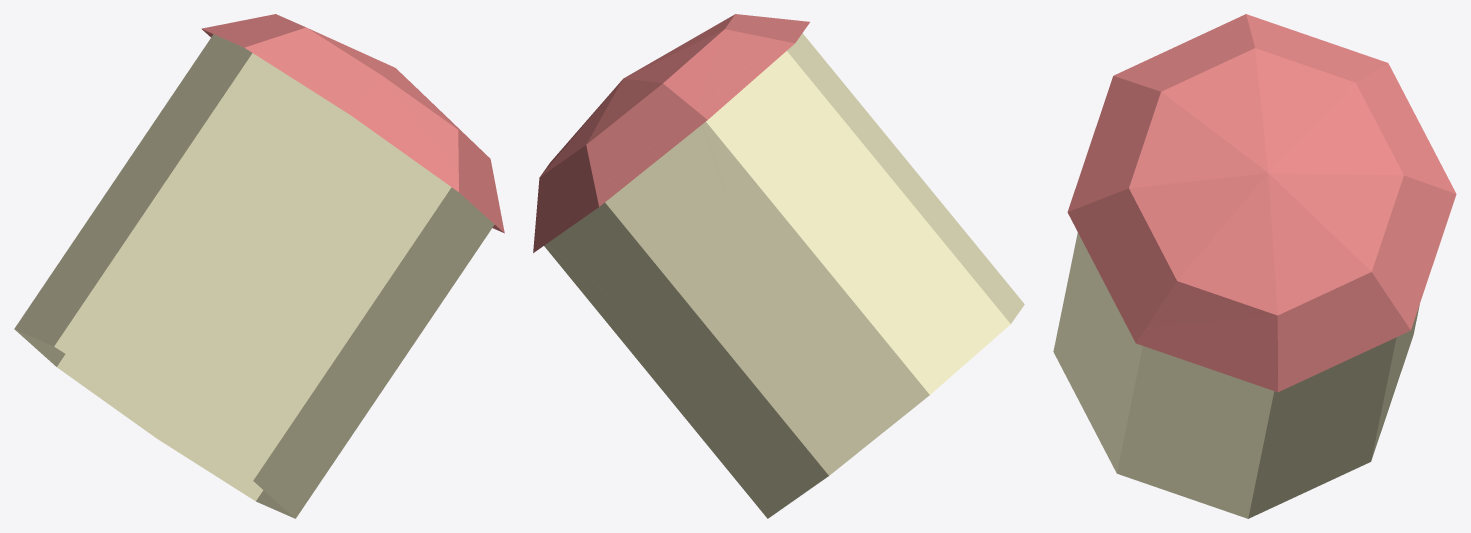
Rendered from tile_067.glb.
3 views of the same model, side by side, from view 1: azimuth 30°, elevation 25°; view 2: azimuth 150°, elevation 25°; view 3: azimuth 270°, elevation 25° (orthographic). The views are drawn at different scales.
Visible parts, largest first — view 1: Batched_Building_ID_3614F521-C593-43DE-9D29-A31DA1FE2262; view 2: Batched_Building_ID_3614F521-C593-43DE-9D29-A31DA1FE2262; view 3: Batched_Building_ID_3614F521-C593-43DE-9D29-A31DA1FE2262.
Part boxes in pixels (x1,y1,x2,y2): Batched_Building_ID_3614F521-C593-43DE-9D29-A31DA1FE2262: [14, 14, 504, 518]; Batched_Building_ID_3614F521-C593-43DE-9D29-A31DA1FE2262: [533, 14, 1024, 518]; Batched_Building_ID_3614F521-C593-43DE-9D29-A31DA1FE2262: [1053, 14, 1456, 518].
Bounding box in the file's own units: 10.12 × 10.2 × 7.46.
